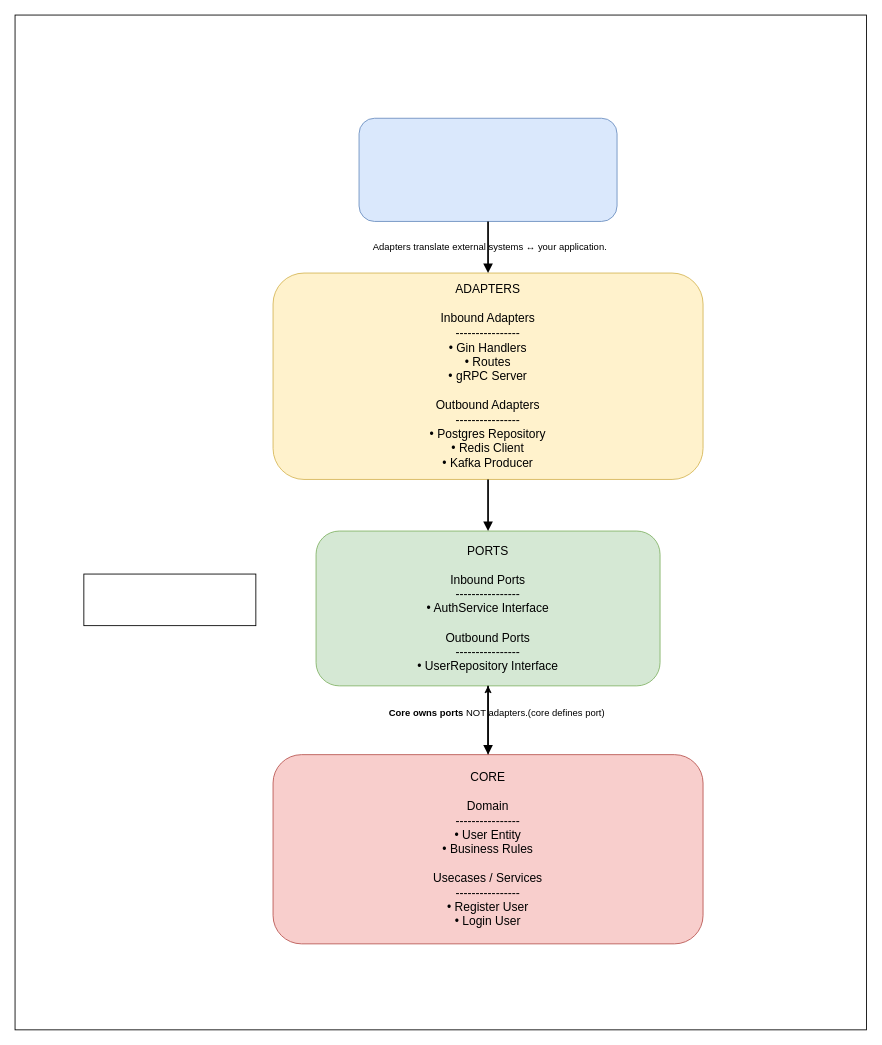
The diagram is 882 pixels wide and 1045 high, and some of its shapes have lost their labels. Each missing label, with the centre of its shape:
"Adapters → Ports ← Core" belongs at point (169, 599).
"External World • Browser / Mobile App • Postgres • Redis • Kafka" belongs at point (487, 169).
